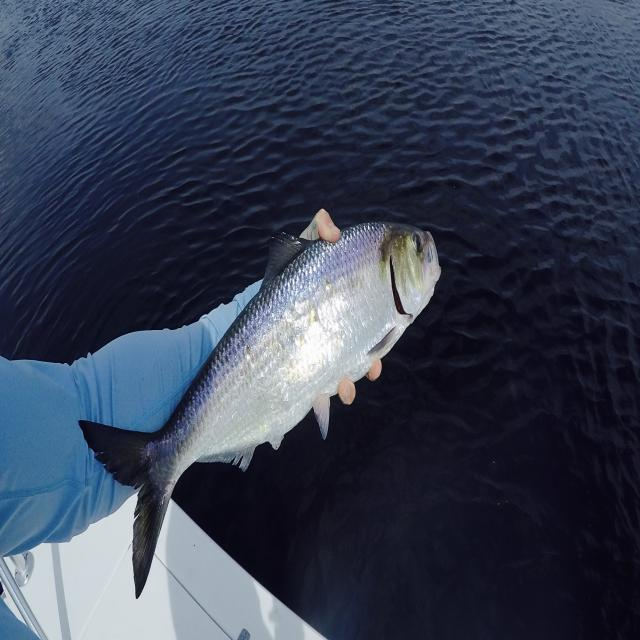Shad - American: (80, 223, 440, 596)
